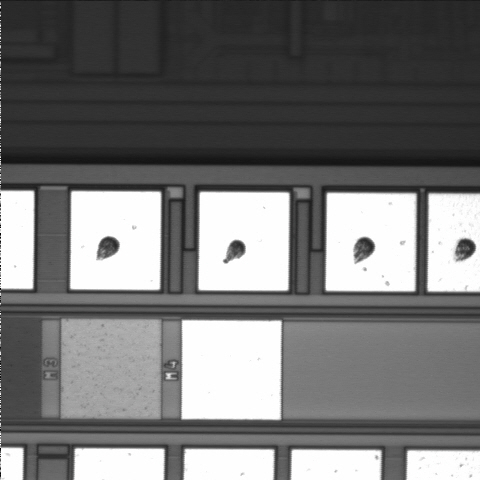pad: (182, 320, 281, 420), (70, 191, 161, 290), (199, 192, 289, 291), (326, 193, 416, 291)
